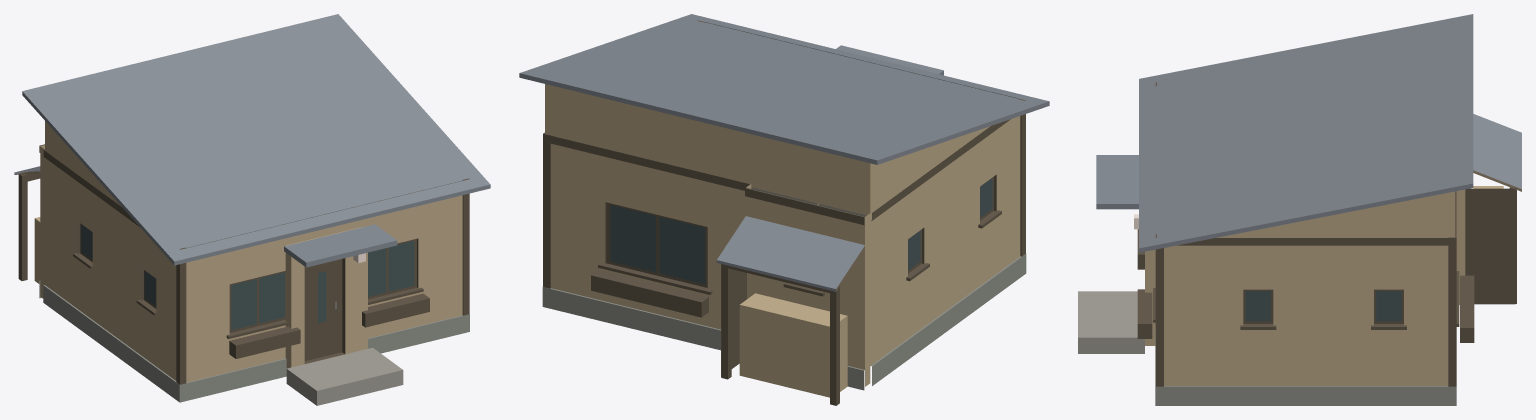
Rendered from mashup-hut_cedar-top-prebuilt.fbx.
3 views of the same model, side by side, from view 1: azimuth 30°, elevation 25°; view 2: azimuth 150°, elevation 25°; view 3: azimuth 270°, elevation 25° (orthographic). The views are drawn at different scales.
Visible parts, largest first — view 1: a2015.hut_cedar; view 2: a2015.hut_cedar; view 3: a2015.hut_cedar.
Part boxes in pixels (left/top/right/bottom): a2015.hut_cedar: left=14, top=14, right=490, bottom=405; a2015.hut_cedar: left=519, top=14, right=1049, bottom=405; a2015.hut_cedar: left=1078, top=14, right=1521, bottom=405.
Size of the model in its own units: 6.6 by 4.21 by 7.3.
